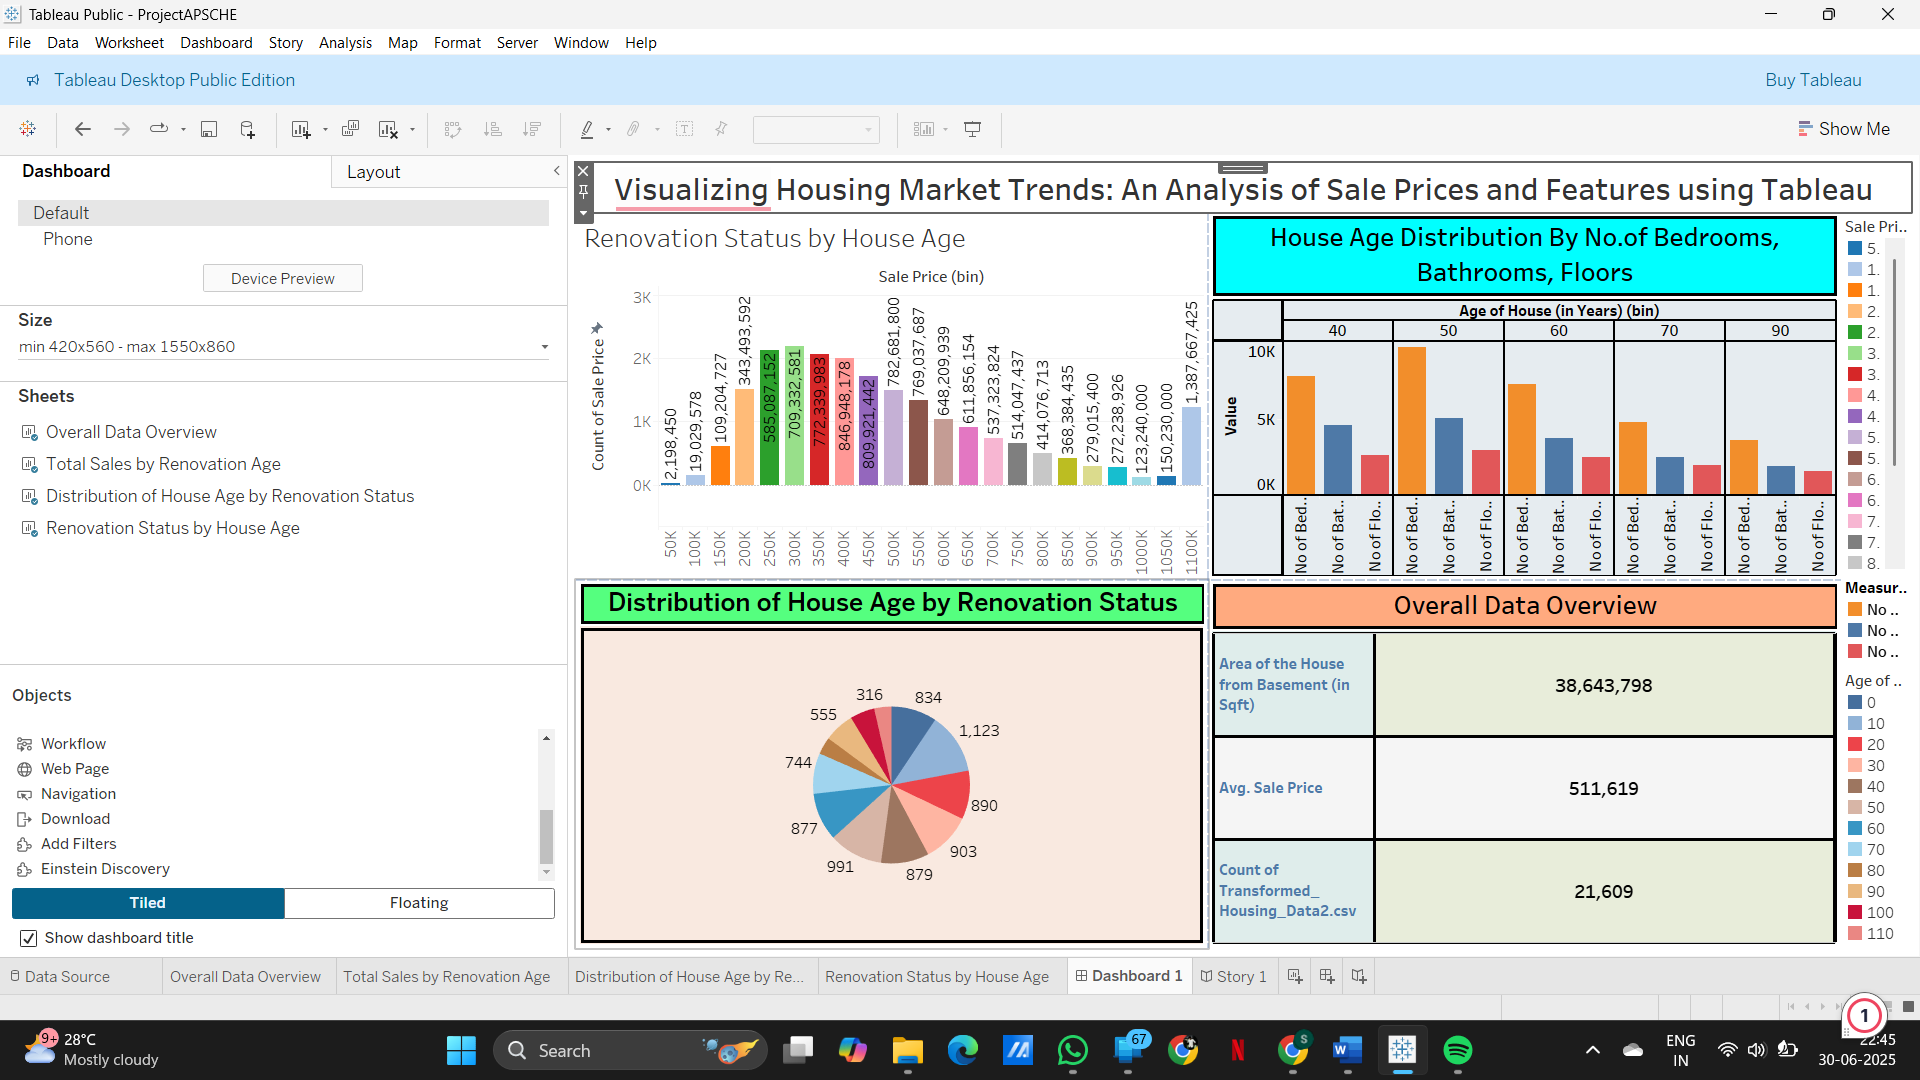

The page's visual inventory and layout, read from the dashboard file:
{"tool":"tableau","page":{"name":"Dashboard 1","canvas":[1000,1000],"units":"permille","ordinal":0},"visuals":[{"type":"title","box":[5.9,10,988.2,61.2]},{"type":"worksheet","title":"Renovation Status by House Age","mark":"Automatic","rows":["Sale_Price"],"cols":["Sale Price (bin)"],"box":[5.9,71.2,468.2,459.4]},{"type":"worksheet","title":"Total Sales by Renovation Age","mark":"Automatic","cols":["Age of House (in Years) (bin)"],"box":[474.1,71.2,468.2,459.4]},{"type":"legend","title":"Renovation Status by House Age","param":"[federated.1korgiq05trvjv1b48mak0k6hoyv].[none:Sale Price (bin):ok]","box":[942.3,71.2,51.8,450.7]},{"type":"legend","title":"Total Sales by Renovation Age","param":"[federated.1korgiq05trvjv1b48mak0k6hoyv].[:Measure Names]","box":[942.3,521.8,51.8,116.1]},{"type":"worksheet","title":"Distribution of House Age by Renovation Status","mark":"Pie","box":[5.9,530.6,468.2,459.4]},{"type":"worksheet","title":"Overall Data Overview","mark":"Automatic","box":[474.1,530.6,468.2,459.4]},{"type":"legend","title":"Distribution of House Age by Renovation Status","param":"[federated.1korgiq05trvjv1b48mak0k6hoyv].[none:Age of House (in Years) (bin):ok]","box":[942.3,638,51.8,352.1]}]}

Visuals, with their boxes on the dashboard's canvas, which has no fixed pixel size, in thousandths of its width and height (x1, y1, x2, y2). These are canvas units, not pixel positions in the 1920x1080 screenshot, which may show the page scaled, cropped or inside an application window:
title: {"x1": 6, "y1": 10, "x2": 994, "y2": 71}
"Renovation Status by House Age" worksheet: {"x1": 6, "y1": 71, "x2": 474, "y2": 531}
"Total Sales by Renovation Age" worksheet: {"x1": 474, "y1": 71, "x2": 942, "y2": 531}
"Renovation Status by House Age" legend: {"x1": 942, "y1": 71, "x2": 994, "y2": 522}
"Total Sales by Renovation Age" legend: {"x1": 942, "y1": 522, "x2": 994, "y2": 638}
"Distribution of House Age by Renovation Status" worksheet (Pie marks): {"x1": 6, "y1": 531, "x2": 474, "y2": 990}
"Overall Data Overview" worksheet: {"x1": 474, "y1": 531, "x2": 942, "y2": 990}
"Distribution of House Age by Renovation Status" legend: {"x1": 942, "y1": 638, "x2": 994, "y2": 990}
